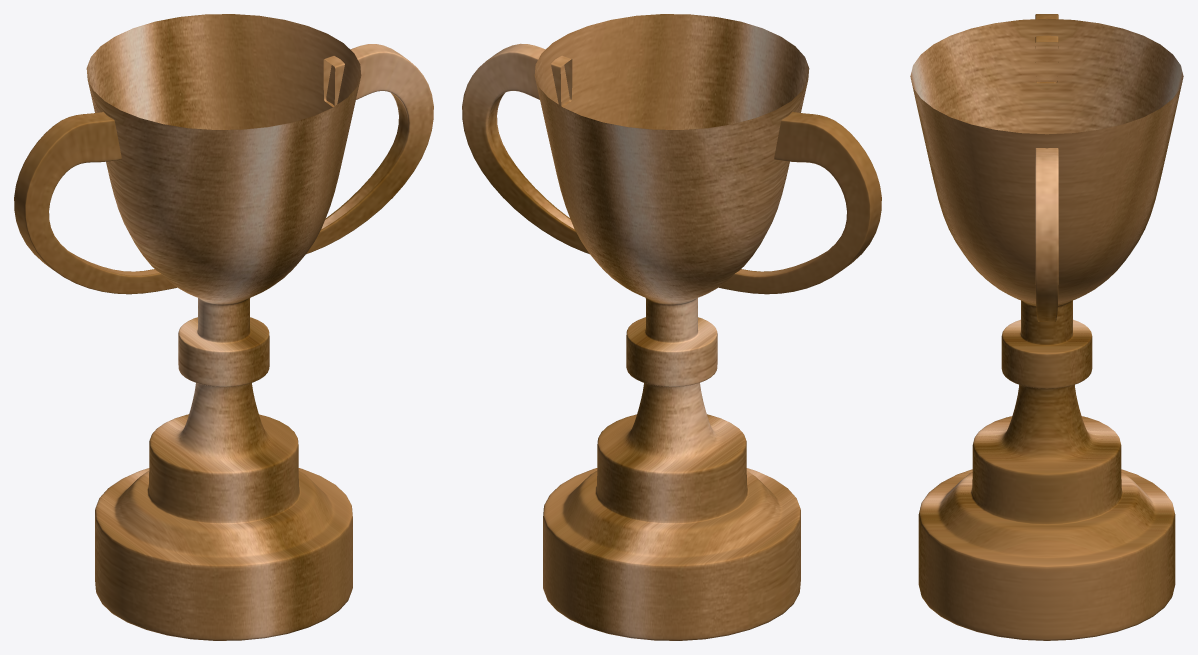
File: trophy.FBX
3 views of the same model, side by side, from view 1: azimuth 30°, elevation 25°; view 2: azimuth 150°, elevation 25°; view 3: azimuth 270°, elevation 25° (orthographic).
Visible parts, largest first — view 1: Trophy_A_2_Base, Trophy_A_2_Handle_2, Trophy_A_2_Handle_1; view 2: Trophy_A_2_Base, Trophy_A_2_Handle_2, Trophy_A_2_Handle_1; view 3: Trophy_A_2_Base, Trophy_A_2_Handle_1.
Boxes of the visible parts, x1,y1,x2,y2 form: Trophy_A_2_Base: (86,14,361,640); Trophy_A_2_Handle_2: (14,112,176,294); Trophy_A_2_Handle_1: (306,44,433,254); Trophy_A_2_Base: (534,14,809,640); Trophy_A_2_Handle_2: (719,112,881,294); Trophy_A_2_Handle_1: (462,43,589,254); Trophy_A_2_Base: (910,18,1183,640); Trophy_A_2_Handle_1: (1035,148,1058,321).
Size of the model in its own units: 3.79 by 4.57 by 2.21.
1 material, 1 textured.
